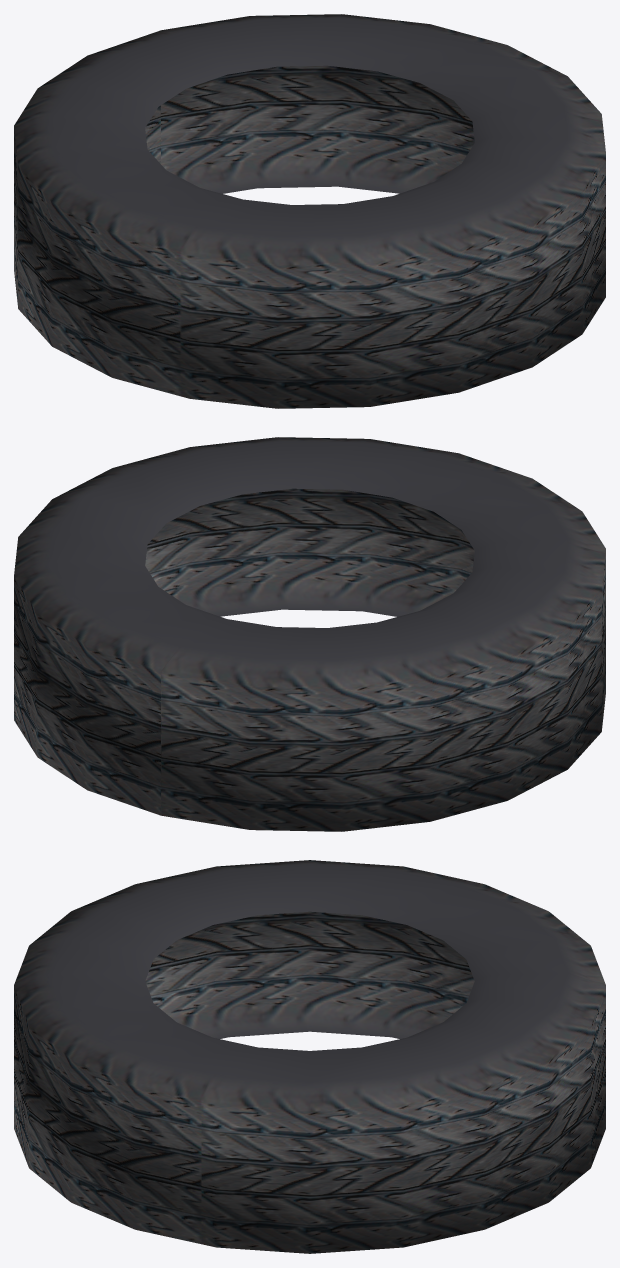
The model's file is tire.obj.
The picture shows the model from 3 angles, top to bottom: view 1: azimuth 30°, elevation 25°; view 2: azimuth 150°, elevation 25°; view 3: azimuth 270°, elevation 25°; orthographic projection.
Visible parts, largest first — view 1: Object02; view 2: Object02; view 3: Object02.
Boxes of the visible parts, x1,y1,x2,y2 form: Object02: [14, 14, 605, 408]; Object02: [14, 437, 605, 831]; Object02: [14, 860, 605, 1253].
Size of the model in its own units: 0.6604 by 0.2056 by 0.6604.
Materials: 2 (2 with a texture image).
